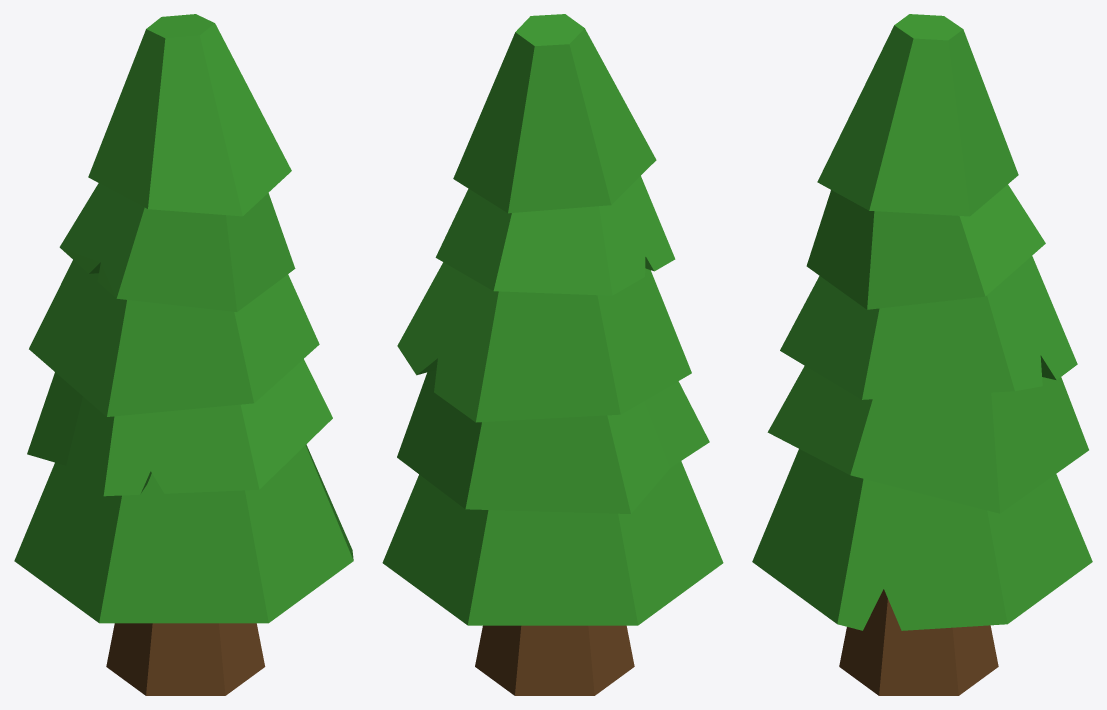
File: tree1.fbx
3 views of the same model, side by side, from view 1: azimuth 30°, elevation 25°; view 2: azimuth 150°, elevation 25°; view 3: azimuth 270°, elevation 25° (orthographic).
Parts seen in each view (by area): view 1: Cylinder.001, Cylinder.003, Cylinder.005, Cylinder.002, Cylinder.004, Tree2; view 2: Cylinder.001, Cylinder.003, Cylinder.002, Cylinder.005, Cylinder.004, Tree2; view 3: Cylinder.001, Cylinder.002, Cylinder.005, Cylinder.003, Cylinder.004, Tree2.
Part boxes in pixels (x1,y1,x2,y2): Cylinder.001: [14, 444, 353, 623]; Cylinder.003: [29, 260, 319, 416]; Cylinder.005: [88, 14, 291, 216]; Cylinder.002: [27, 359, 332, 496]; Cylinder.004: [59, 183, 295, 311]; Tree2: [106, 623, 265, 695]; Cylinder.001: [382, 461, 723, 625]; Cylinder.003: [397, 262, 691, 422]; Cylinder.002: [397, 370, 709, 513]; Cylinder.005: [453, 14, 656, 213]; Cylinder.004: [435, 176, 675, 295]; Tree2: [475, 625, 634, 695]; Cylinder.001: [752, 449, 1092, 630]; Cylinder.002: [767, 366, 1088, 513]; Cylinder.005: [817, 14, 1018, 216]; Cylinder.003: [780, 256, 1077, 399]; Cylinder.004: [806, 184, 1045, 309]; Tree2: [839, 589, 998, 695].
Size of the model in its own units: 67.33 by 155 by 74.38.
